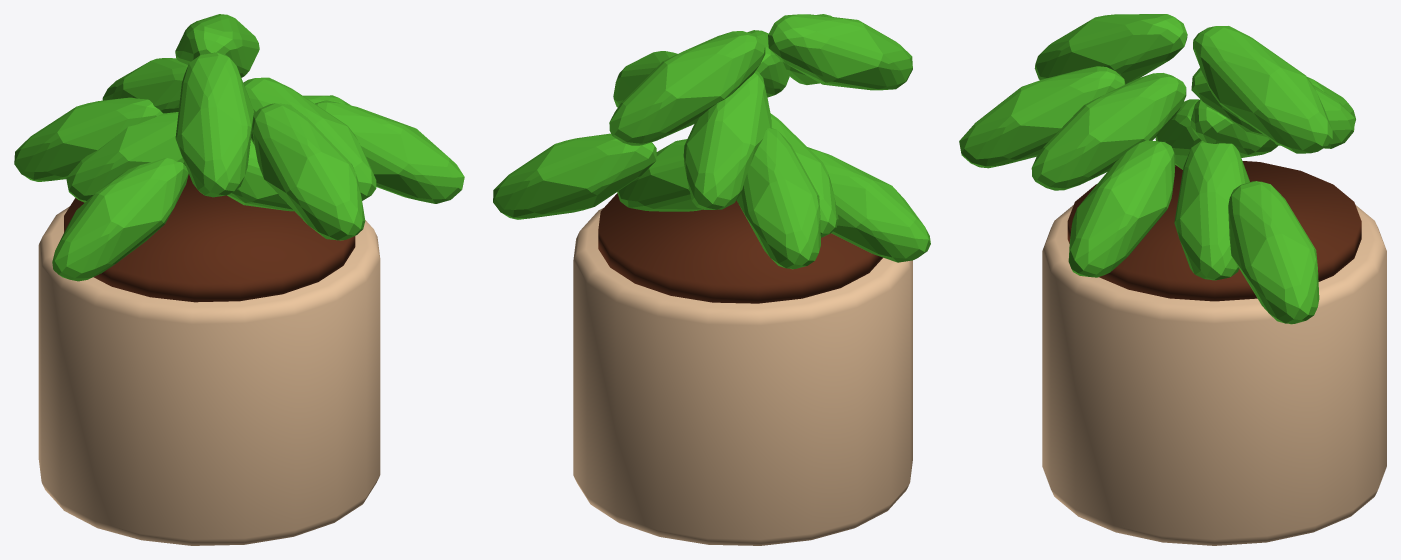
File: PR3D_Environment_Basil.fbx
3 renders of one model, left to right at view 1: azimuth 30°, elevation 25°; view 2: azimuth 150°, elevation 25°; view 3: azimuth 270°, elevation 25°, orthographic.
Parts seen in each view (by area): view 1: Visual_BasilPot, Visual_Batched_Basil, Visual_BasilSoil; view 2: Visual_BasilPot, Visual_Batched_Basil, Visual_BasilSoil; view 3: Visual_BasilPot, Visual_Batched_Basil, Visual_BasilSoil.
Boxes of the visible parts, <box> form: Visual_BasilPot: <box>38,206,380,545</box>; Visual_Batched_Basil: <box>14,14,464,281</box>; Visual_BasilSoil: <box>64,174,355,302</box>; Visual_BasilPot: <box>573,208,912,545</box>; Visual_Batched_Basil: <box>493,14,930,269</box>; Visual_BasilSoil: <box>598,193,882,303</box>; Visual_BasilPot: <box>1042,205,1386,545</box>; Visual_Batched_Basil: <box>959,14,1355,324</box>; Visual_BasilSoil: <box>1067,161,1361,301</box>.
Bounding box in the file's own units: 0.8678 × 0.9809 × 0.8444.
